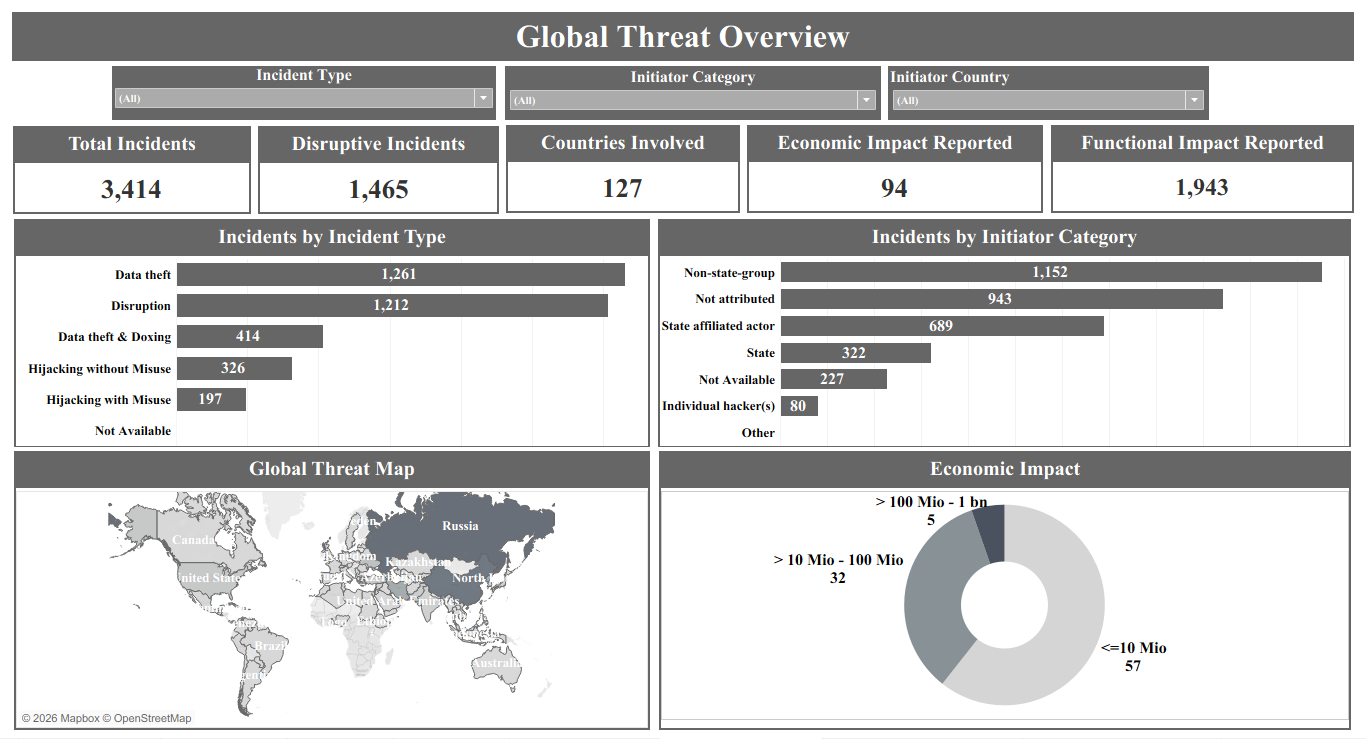

The page's visual inventory and layout, read from the dashboard file:
{"tool":"tableau","page":{"name":"Global Threat Overview","canvas":[1000,1000],"units":"permille","ordinal":0},"visuals":[{"type":"title","box":[6.9,13.7,986.1,97.6]},{"type":"filter","title":"Incidents by Incident Type","param":"[federated.1rhoq5h1kn2pcd1e7mdtw0kdlvm1].[none:incident_type:nk]","box":[82.2,89,281.4,73.6]},{"type":"filter","title":"Incidents by Initiator Category","param":"[federated.1rhoq5h1kn2pcd1e7mdtw0kdlvm1].[none:initiator_category:nk]","box":[369.7,89,275.3,73.6]},{"type":"filter","title":"Global Threat Map","param":"[federated.1rhoq5h1kn2pcd1e7mdtw0kdlvm1].[none:initiator_country:nk]","box":[650.2,89,234.6,73.6]},{"type":"worksheet","title":"Countries Involved","mark":"Automatic","box":[370.6,169.5,171.4,119.9]},{"type":"worksheet","title":"Economic Impact Reported","mark":"Automatic","box":[547.2,169.5,216.5,119.9]},{"type":"worksheet","title":"Functional Impact Reported","mark":"Automatic","box":[769.7,169.5,221.7,119.9]},{"type":"worksheet","title":"Total Incidents","mark":"Automatic","box":[9.5,171.2,174,119.9]},{"type":"worksheet","title":"Disruptive Incidents","mark":"Automatic","box":[188.7,171.2,176.6,119.9]},{"type":"worksheet","title":"Incidents by Incident Type","mark":"Automatic","rows":["incident_type"],"cols":["Calculation_1043486564212738"],"box":[10.4,296.2,465.8,309.9]},{"type":"worksheet","title":"Incidents by Initiator Category","mark":"Automatic","rows":["initiator_category"],"cols":["Calculation_1043486564212738"],"box":[481.4,296.2,507.4,309.9]},{"type":"worksheet","title":"Global Threat Map","mark":"Multipolygon","box":[10.4,611.3,465.8,378.4]},{"type":"worksheet","title":"Economic Impact","mark":"Pie","rows":["Calculation_1193020428816384","Calculation_1193020428877825"],"box":[482.2,611.3,506.5,378.4]}]}

Visuals, with their boxes on the dashboard's canvas, which has no fixed pixel size, in thousandths of its width and height (x1, y1, x2, y2). These are canvas units, not pixel positions in the 1366x739 screenshot, which may show the page scaled, cropped or inside an application window:
title: select_region(7, 14, 993, 111)
"Incidents by Incident Type" filter: select_region(82, 89, 364, 163)
"Incidents by Initiator Category" filter: select_region(370, 89, 645, 163)
"Global Threat Map" filter: select_region(650, 89, 885, 163)
"Countries Involved" worksheet: select_region(371, 170, 542, 289)
"Economic Impact Reported" worksheet: select_region(547, 170, 764, 289)
"Functional Impact Reported" worksheet: select_region(770, 170, 991, 289)
"Total Incidents" worksheet: select_region(10, 171, 184, 291)
"Disruptive Incidents" worksheet: select_region(189, 171, 365, 291)
"Incidents by Incident Type" worksheet: select_region(10, 296, 476, 606)
"Incidents by Initiator Category" worksheet: select_region(481, 296, 989, 606)
"Global Threat Map" worksheet (Multipolygon marks): select_region(10, 611, 476, 990)
"Economic Impact" worksheet (Pie marks): select_region(482, 611, 989, 990)
